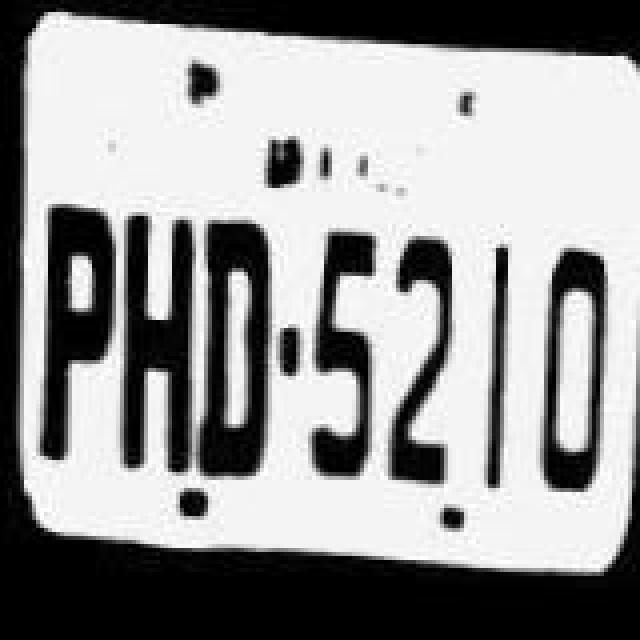1: (462, 232, 518, 500)
2: (384, 230, 460, 498)
5: (298, 222, 378, 482)
D: (188, 210, 268, 478)
H: (110, 208, 202, 476)
O: (520, 234, 620, 502)
P: (30, 202, 122, 462)
